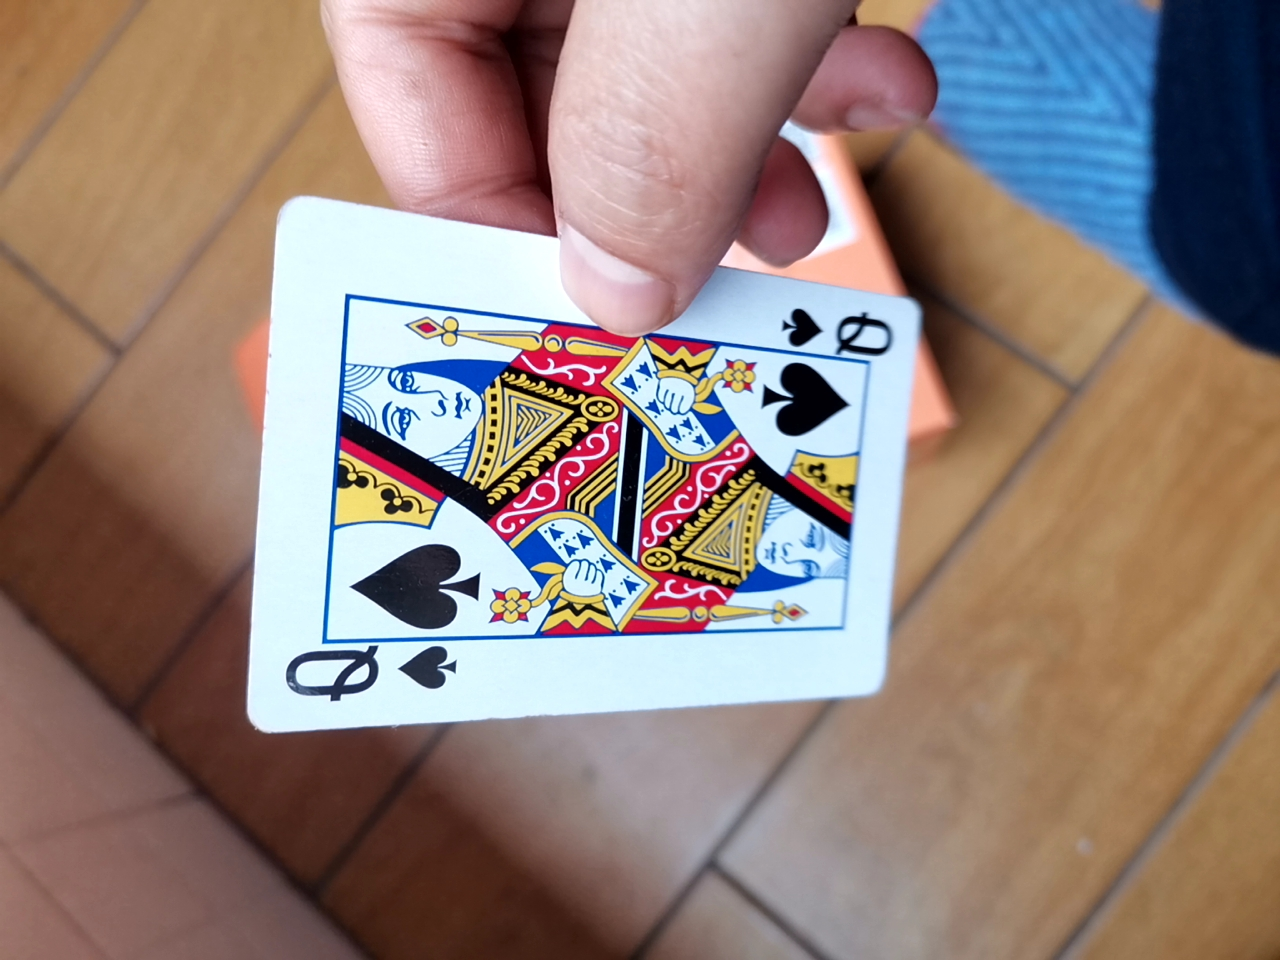ht q: (243, 201, 937, 750)
